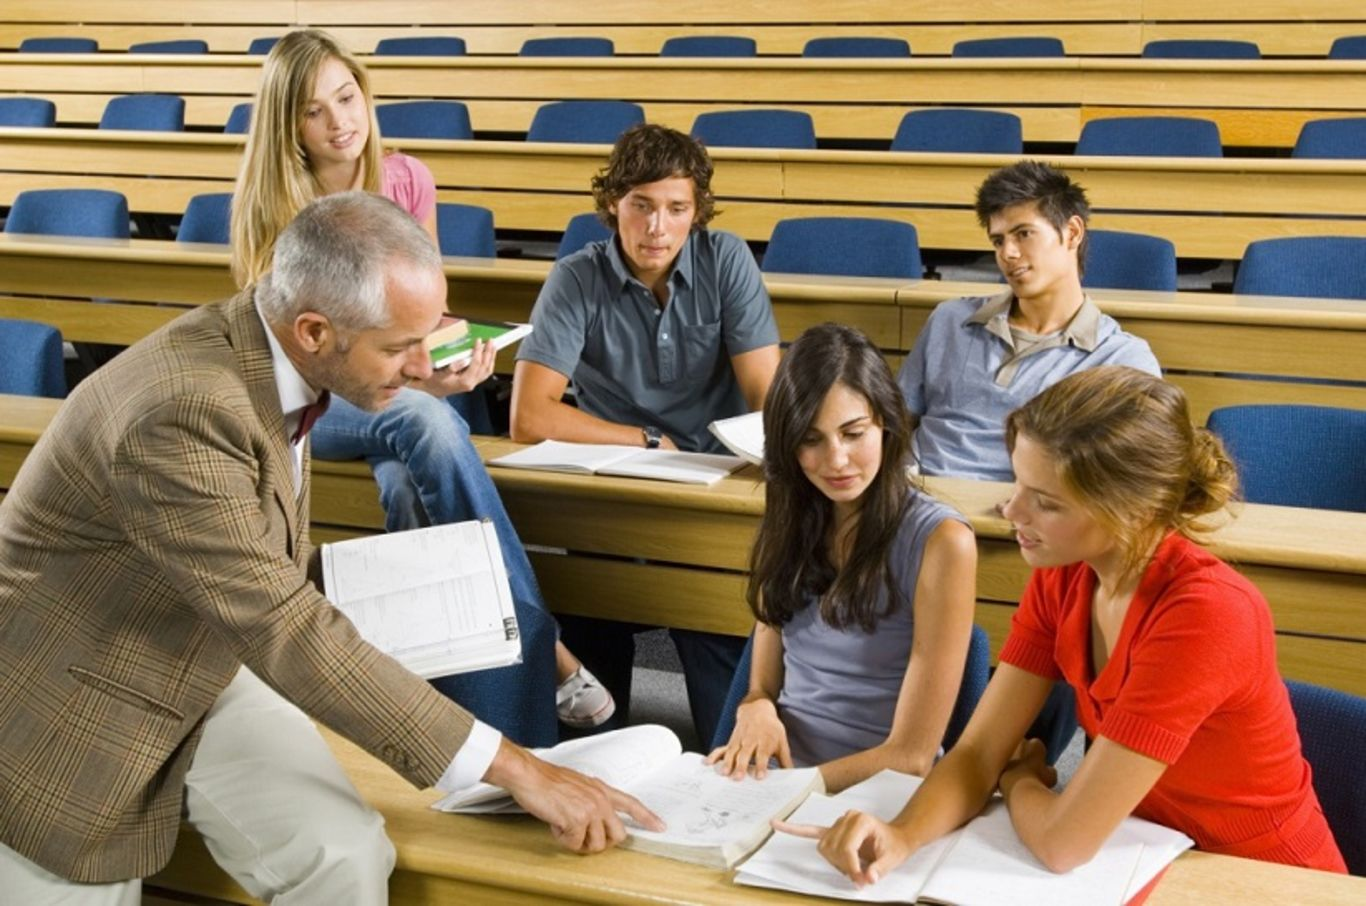students: (1, 193, 664, 905), (774, 367, 1347, 890), (706, 323, 978, 779), (895, 158, 1186, 478), (510, 125, 780, 449), (231, 33, 438, 313)
